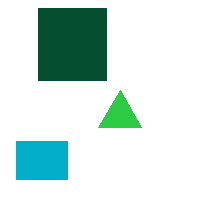rectangle: (38, 8, 106, 80), (16, 141, 67, 179)
triangle: (98, 90, 141, 127)
